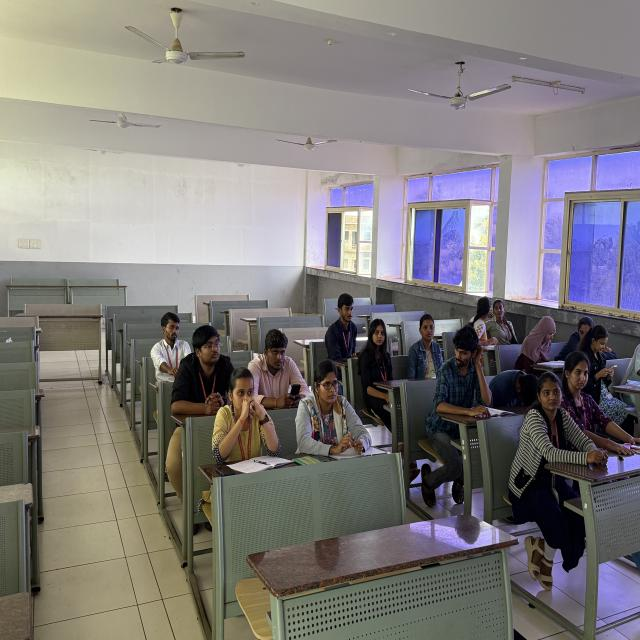Reading: (520, 314, 566, 369)
Sleeping: (485, 362, 545, 415)
Using Phone: (248, 323, 312, 415), (581, 326, 624, 385)
